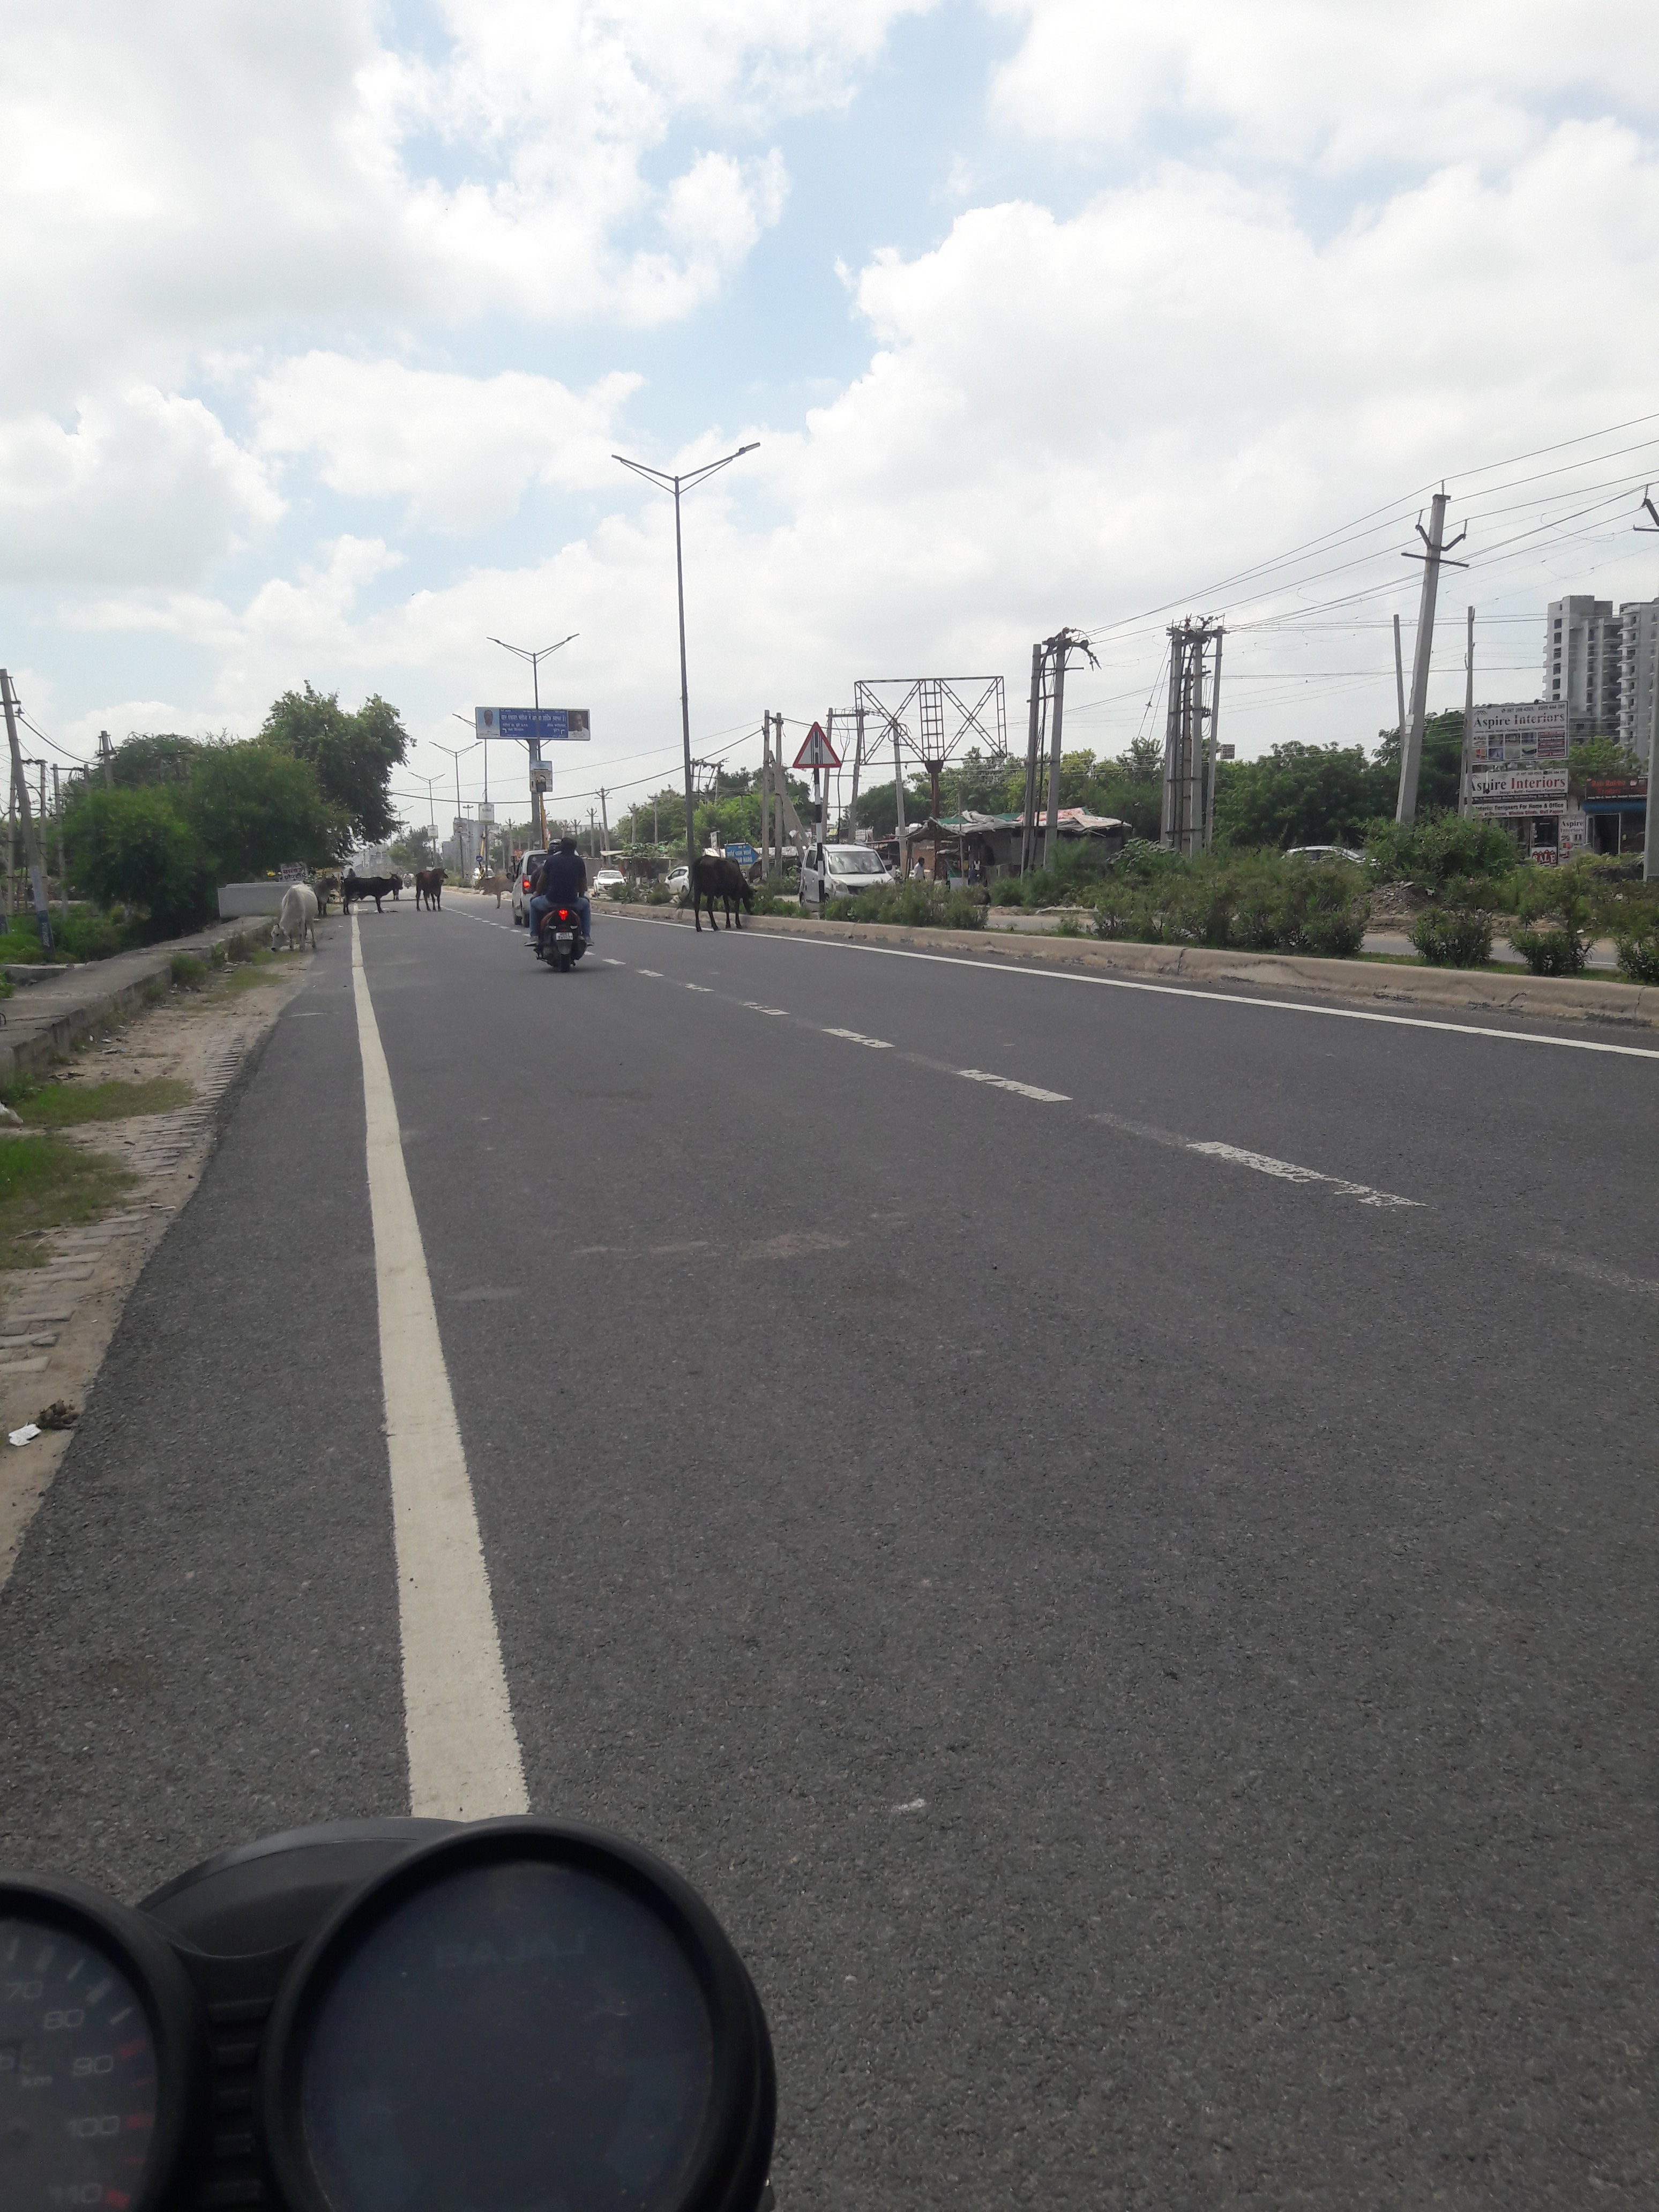traffic_sign: (793, 719, 842, 768)
